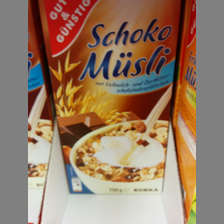cereal: (38, 1, 180, 194)
